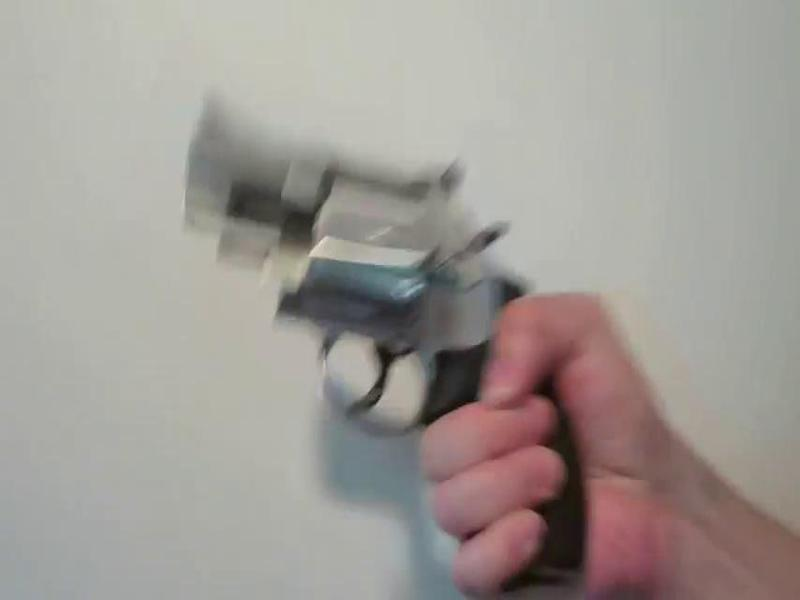Revolver: (139, 102, 629, 579)
